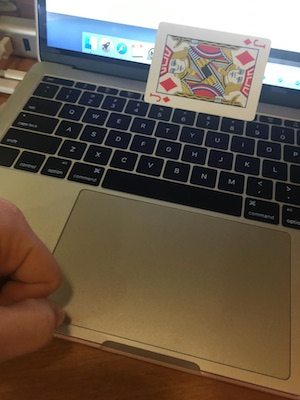JackOfDiamonds: (131, 17, 281, 126)
